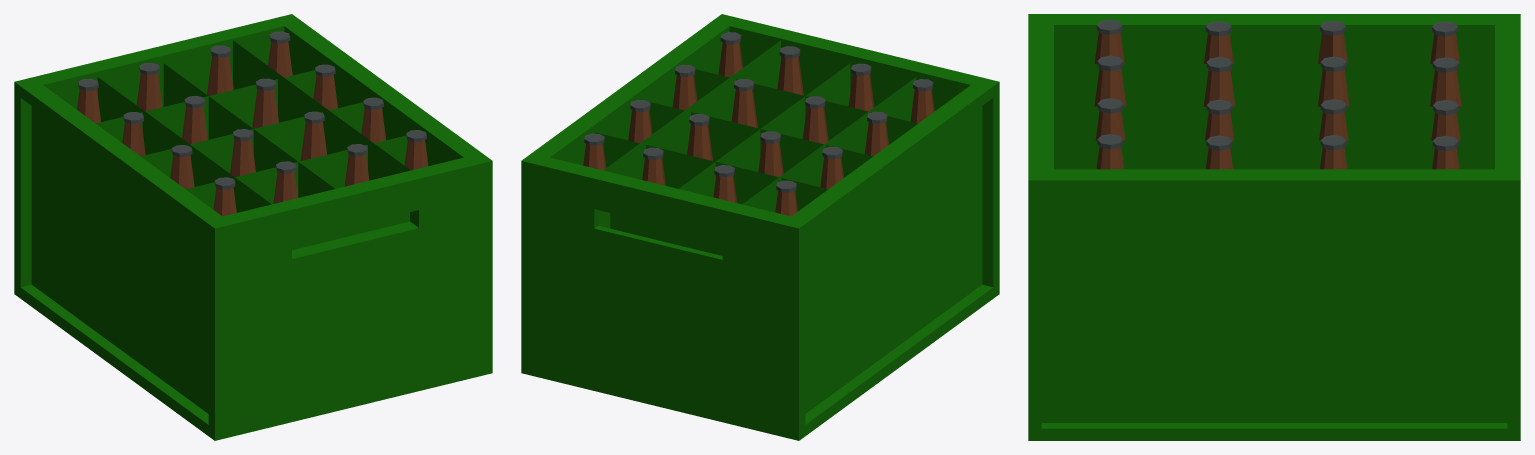
The model's file is LowPolykratjebier.fbx.
3 views of the same model, side by side, from view 1: azimuth 30°, elevation 25°; view 2: azimuth 150°, elevation 25°; view 3: azimuth 270°, elevation 25° (orthographic). The views are drawn at different scales.
Visible parts, largest first — view 1: Cube; view 2: Cube; view 3: Cube.
Part boxes in pixels (bbox=[...]): Cube: bbox=[14, 14, 492, 440]; Cube: bbox=[521, 14, 999, 440]; Cube: bbox=[1028, 14, 1520, 440].
Size of the model in its own units: 200 by 155 by 250.
